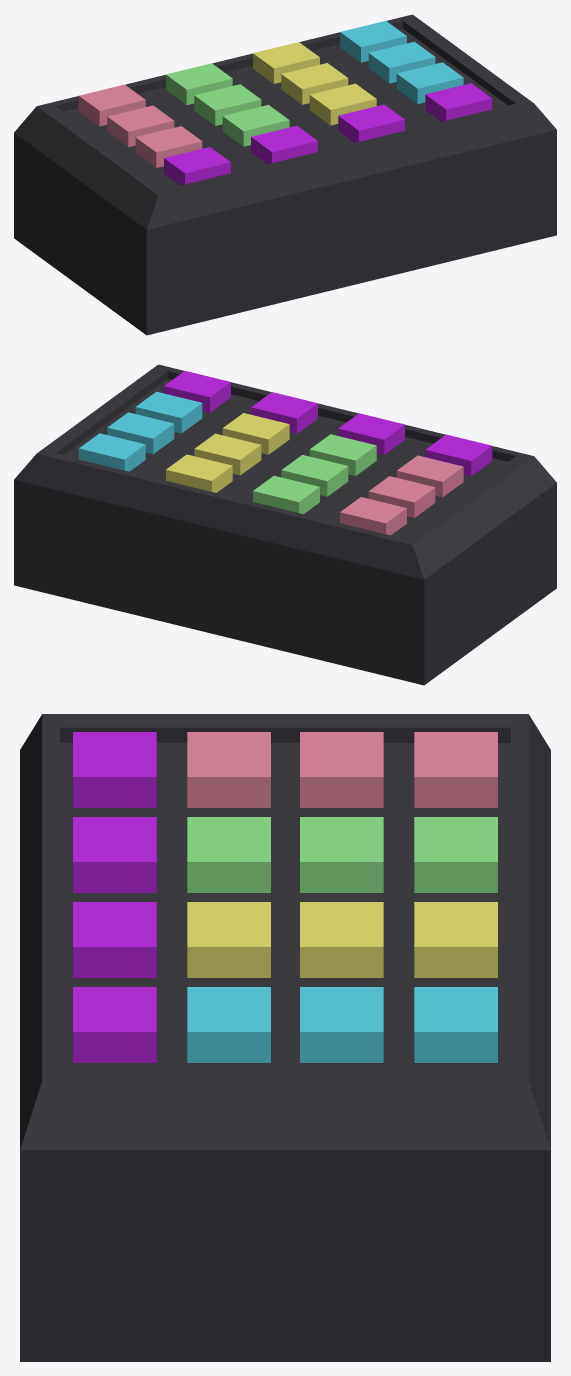
Rendered from board1blend.fbx.
3 views of the same model, one above another, from view 1: azimuth 30°, elevation 25°; view 2: azimuth 150°, elevation 25°; view 3: azimuth 270°, elevation 25° (orthographic). The views are drawn at different scales.
Visible parts, largest first — view 1: Base, Tecla.016, Tecla.014, Tecla.015, Tecla.013, Tecla.012, Tecla.001, Tecla.011, Tecla.009, Tecla.010, Tecla.004, Tecla.002 (+5 smaller); view 2: Base, Tecla.004, Tecla.002, Tecla.003, Tecla.001, Tecla.008, Tecla.013, Tecla.007, Tecla.005, Tecla.006, Tecla.016, Tecla.014 (+5 smaller); view 3: Base, Tecla.001, Tecla.002, Tecla.003, Tecla.004, Tecla.005, Tecla.006, Tecla.007, Tecla.008, Tecla.009, Tecla.010, Tecla.011 (+5 smaller).
Boxes of the visible parts, x1=… form: Base: x1=14, y1=14, x2=556, y2=335; Tecla.016: x1=425, y1=83, x2=492, y2=121; Tecla.014: x1=251, y1=125, x2=317, y2=164; Tecla.015: x1=338, y1=104, x2=404, y2=142; Tecla.013: x1=164, y1=147, x2=230, y2=185; Tecla.012: x1=396, y1=62, x2=463, y2=104; Tecla.001: x1=78, y1=84, x2=145, y2=126; Tecla.011: x1=309, y1=83, x2=376, y2=125; Tecla.009: x1=135, y1=126, x2=202, y2=167; Tecla.010: x1=222, y1=105, x2=289, y2=146; Tecla.004: x1=340, y1=21, x2=406, y2=62; Tecla.002: x1=166, y1=63, x2=232, y2=104; Base: x1=14, y1=364, x2=556, y2=685; Tecla.004: x1=78, y1=433, x2=145, y2=471; Tecla.002: x1=253, y1=475, x2=319, y2=514; Tecla.003: x1=166, y1=454, x2=232, y2=492; Tecla.001: x1=340, y1=497, x2=406, y2=535; Tecla.008: x1=107, y1=412, x2=174, y2=454; Tecla.013: x1=425, y1=434, x2=492, y2=476; Tecla.007: x1=194, y1=433, x2=261, y2=475; Tecla.005: x1=368, y1=476, x2=435, y2=517; Tecla.006: x1=281, y1=455, x2=348, y2=496; Tecla.016: x1=164, y1=371, x2=230, y2=412; Tecla.014: x1=338, y1=413, x2=404, y2=454; Base: x1=20, y1=714, x2=550, y2=1361; Tecla.001: x1=414, y1=732, x2=497, y2=807; Tecla.002: x1=414, y1=817, x2=497, y2=892; Tecla.003: x1=414, y1=902, x2=497, y2=977; Tecla.004: x1=414, y1=987, x2=497, y2=1062; Tecla.005: x1=300, y1=732, x2=383, y2=807; Tecla.006: x1=300, y1=817, x2=383, y2=892; Tecla.007: x1=300, y1=902, x2=383, y2=977; Tecla.008: x1=300, y1=987, x2=383, y2=1062; Tecla.009: x1=187, y1=732, x2=270, y2=807; Tecla.010: x1=187, y1=817, x2=270, y2=892; Tecla.011: x1=187, y1=902, x2=270, y2=977.
Size of the model in its own units: 200 by 65.12 by 112.
